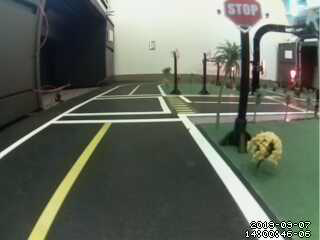Stop_Sign: (223, 1, 267, 29)
